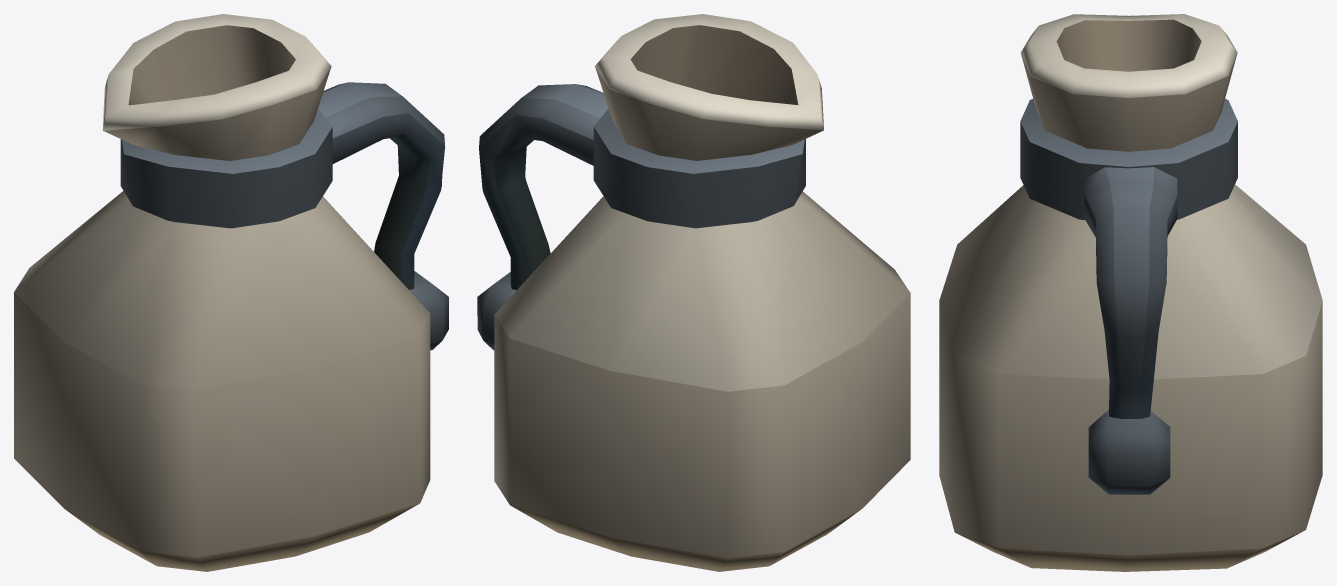
File: jug_water.fbx
The picture shows the model from 3 angles, left to right: view 1: azimuth 30°, elevation 25°; view 2: azimuth 150°, elevation 25°; view 3: azimuth 270°, elevation 25°; orthographic projection. The views are drawn at different scales.
Parts seen in each view (by area): view 1: jug_water; view 2: jug_water; view 3: jug_water.
Boxes of the visible parts, bbox=[...] form: jug_water: bbox=[14, 14, 448, 571]; jug_water: bbox=[477, 14, 910, 571]; jug_water: bbox=[939, 14, 1322, 571].
Bounding box in the file's own units: 44.65 × 50.98 × 37.84.
